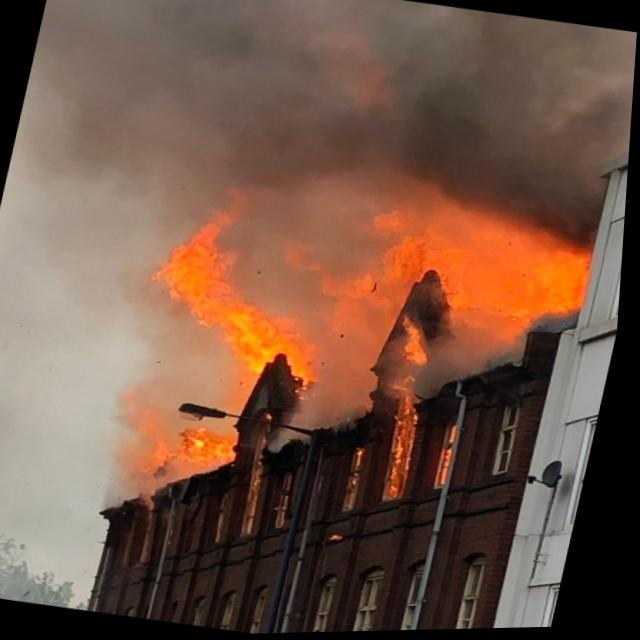fire: (311, 178, 608, 394), (125, 174, 368, 404), (355, 306, 458, 503), (102, 386, 257, 514)
